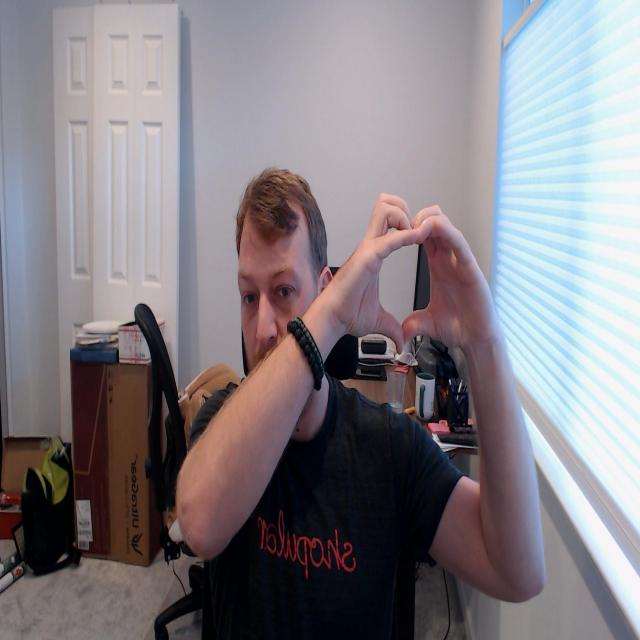face: (238, 215, 324, 398)
